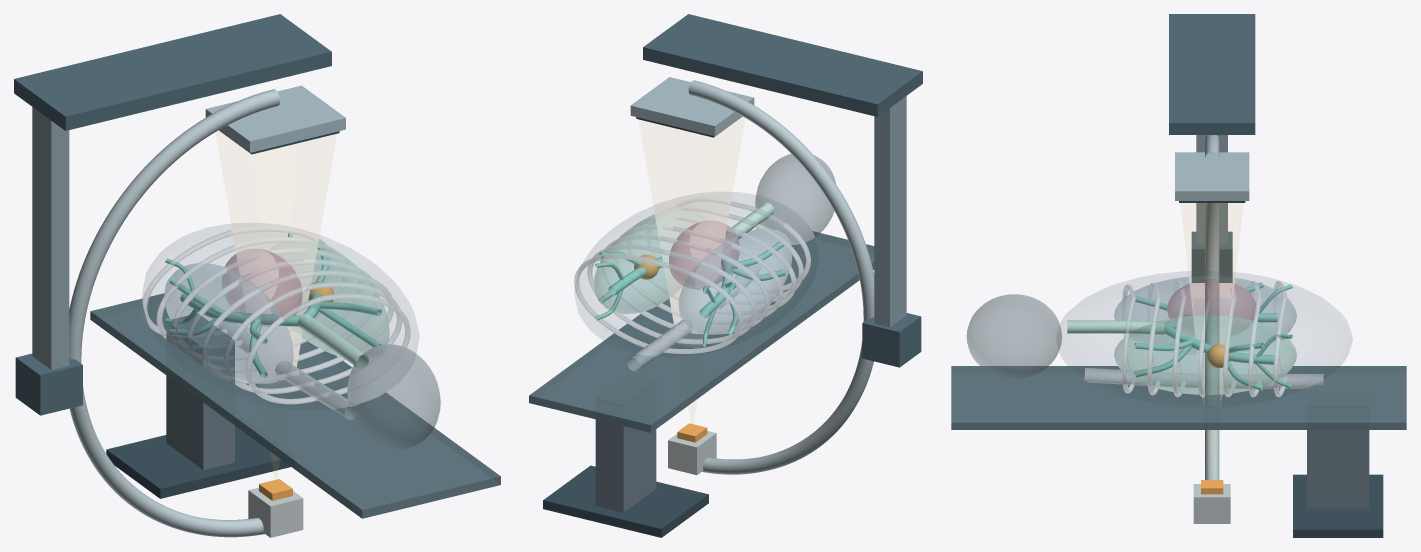
Rendered from fixed-cbct-suite.glb.
3 views of the same model, side by side, from view 1: azimuth 30°, elevation 25°; view 2: azimuth 150°, elevation 25°; view 3: azimuth 270°, elevation 25° (orthographic). The views are drawn at different scales.
Visible parts, largest first — view 1: Teaching radiolucent table, Authored thorax and airway, fixed schematic support, Authored source detector C-arm, Schematic right lung, Schematic left lung; view 2: Teaching radiolucent table, Authored thorax and airway, fixed schematic support, Authored source detector C-arm, Schematic right lung, Schematic left lung; view 3: Teaching radiolucent table, Authored thorax and airway, fixed schematic support, Schematic left lung, Authored source detector C-arm, Schematic right lung.
Boxes of the visible parts, bbox=[...] form: Teaching radiolucent table: bbox=[90, 293, 500, 518]; Authored thorax and airway: bbox=[142, 224, 440, 449]; fixed schematic support: bbox=[14, 14, 331, 415]; Authored source detector C-arm: bbox=[69, 85, 345, 537]; Schematic right lung: bbox=[164, 263, 293, 383]; Schematic left lung: bbox=[270, 241, 389, 357]; Teaching radiolucent table: bbox=[529, 228, 874, 537]; Authored thorax and airway: bbox=[574, 154, 835, 371]; fixed schematic support: bbox=[643, 14, 922, 367]; Authored source detector C-arm: bbox=[630, 77, 874, 474]; Schematic right lung: bbox=[678, 228, 791, 334]; Schematic left lung: bbox=[594, 209, 703, 313]; Teaching radiolucent table: bbox=[951, 366, 1406, 537]; Authored thorax and airway: bbox=[966, 271, 1351, 406]; fixed schematic support: bbox=[1169, 14, 1255, 282]; Schematic left lung: bbox=[1114, 315, 1296, 394]; Authored source detector C-arm: bbox=[1175, 135, 1249, 523]; Schematic right lung: bbox=[1114, 276, 1296, 333].
Bounding box in the file's own units: 0.2585 × 0.3415 × 0.343.
